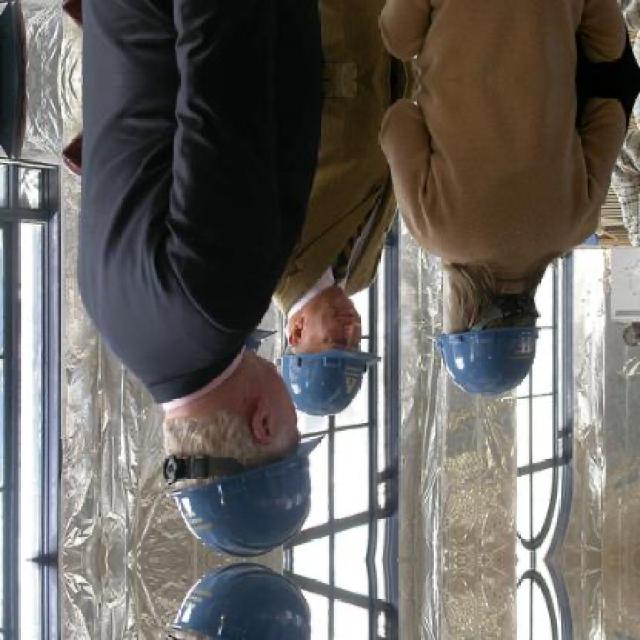con casco: (168, 418, 338, 554), (291, 331, 368, 428)
